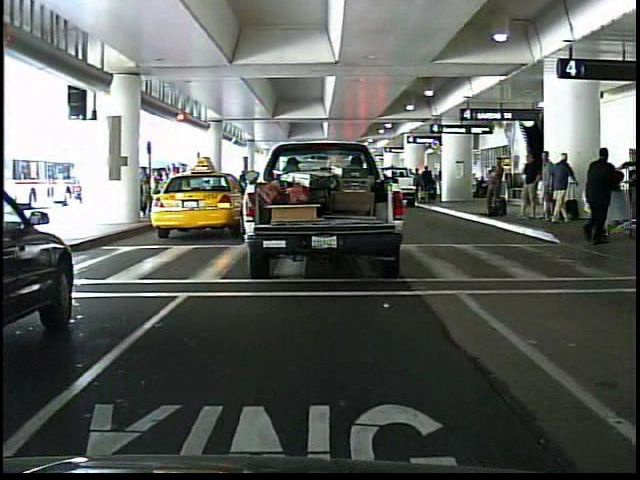person: (575, 144, 622, 247), (550, 151, 577, 225), (627, 145, 635, 229)
